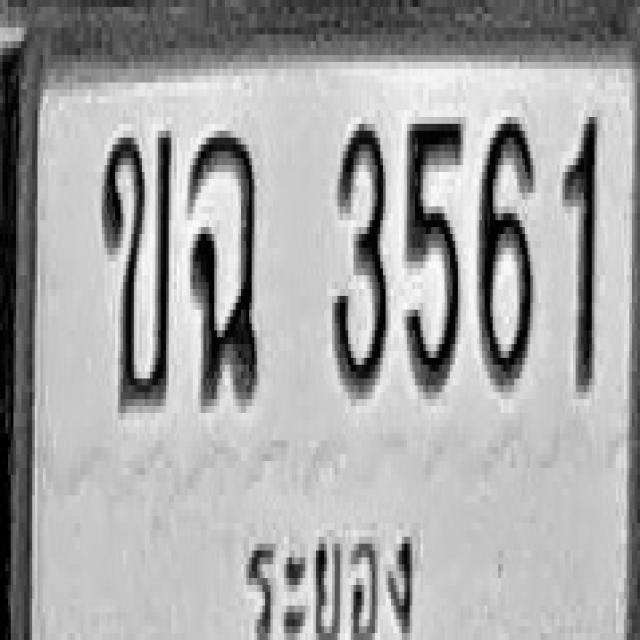1: (562, 113, 597, 389)
11KhorKhai: (102, 128, 171, 410)
18ChorChing: (188, 127, 257, 403)
3: (332, 117, 386, 392)
5: (406, 114, 462, 396)
6: (478, 117, 534, 385)
Rayong: (238, 500, 420, 640)
